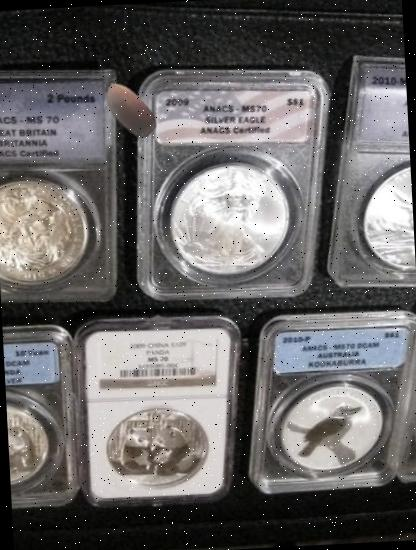Hazelnut: (96, 76, 164, 144)
